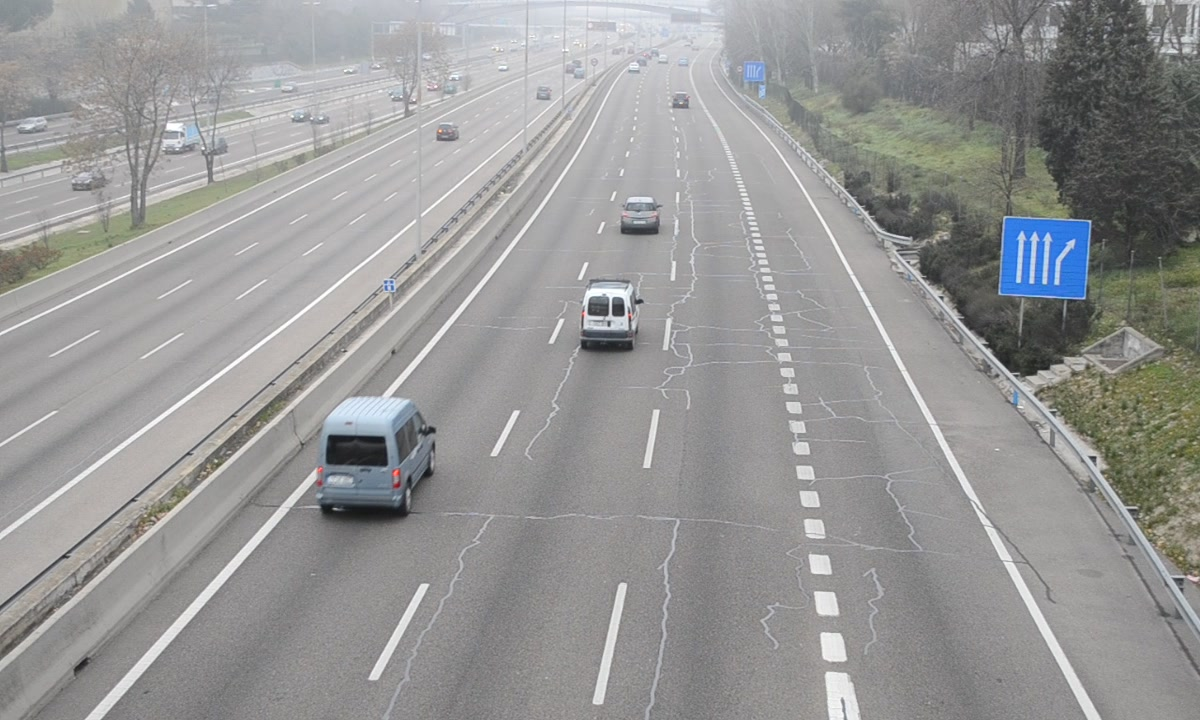car: (620, 195, 662, 234)
van: (316, 397, 435, 509), (580, 281, 640, 345)
